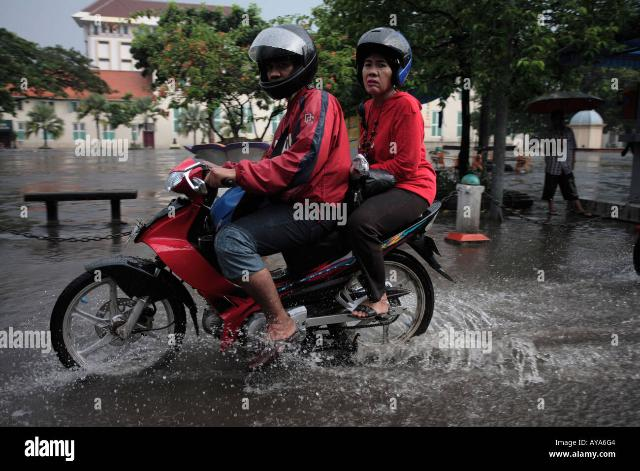helm: (252, 28, 321, 101), (356, 27, 416, 102)
motor: (52, 158, 443, 365)
